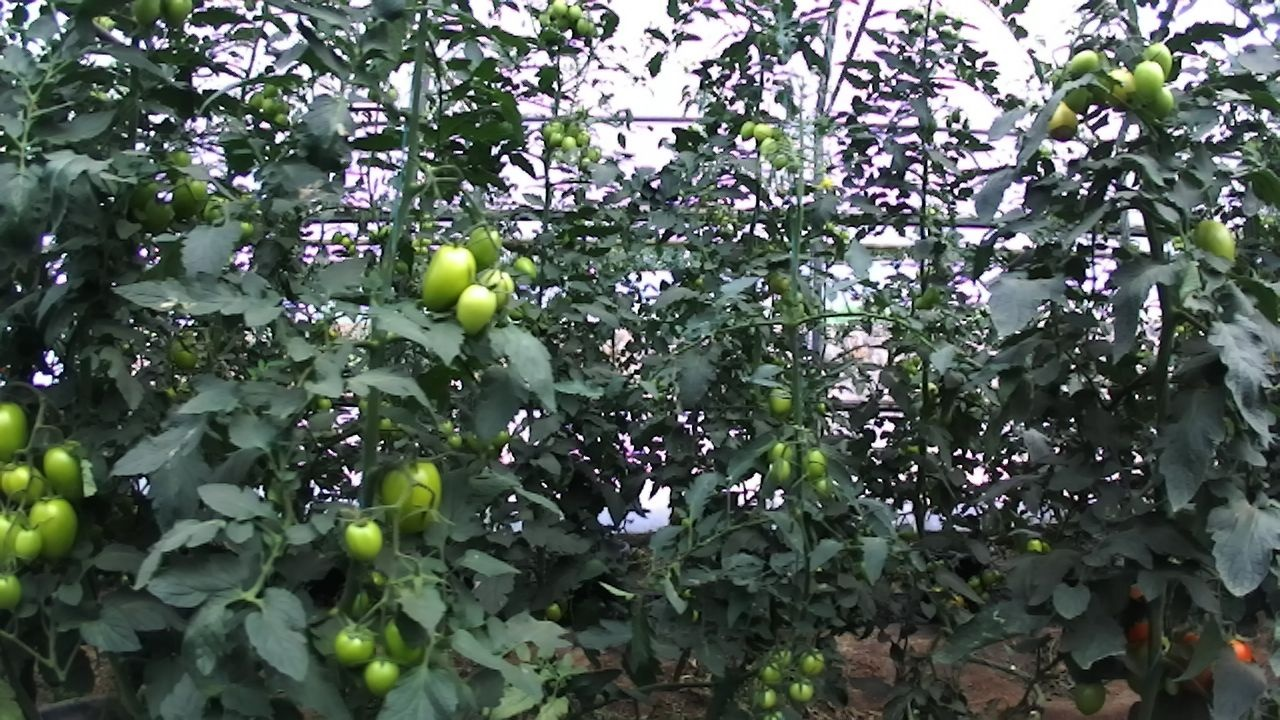tomato: (372, 445, 459, 543), (410, 232, 493, 322), (1185, 200, 1257, 282), (23, 487, 84, 567), (37, 436, 99, 510), (445, 273, 504, 341), (327, 615, 384, 676), (336, 510, 393, 570), (460, 217, 512, 280), (0, 392, 41, 470), (0, 453, 53, 508), (165, 166, 213, 226), (1063, 666, 1116, 720), (1040, 93, 1092, 148), (355, 649, 411, 700), (1048, 66, 1100, 118), (0, 503, 35, 580), (1094, 61, 1144, 114), (136, 192, 181, 243), (165, 330, 208, 379), (1139, 37, 1182, 85), (1139, 81, 1184, 123), (1063, 42, 1107, 84), (123, 0, 172, 37), (10, 521, 50, 566), (155, 0, 203, 37), (1128, 59, 1170, 101), (161, 144, 200, 188), (0, 565, 30, 620), (799, 441, 835, 485), (785, 671, 823, 708), (765, 384, 802, 421), (506, 250, 544, 286), (762, 437, 799, 473), (794, 642, 829, 680), (747, 681, 786, 714), (753, 656, 789, 691), (768, 455, 797, 490), (748, 118, 777, 145), (542, 597, 569, 625), (735, 116, 760, 144), (444, 427, 469, 453), (755, 133, 781, 158), (258, 94, 285, 118), (768, 148, 791, 173), (1024, 534, 1047, 559), (539, 118, 566, 139), (271, 108, 293, 133), (245, 88, 267, 112), (548, 0, 574, 20), (574, 127, 594, 151), (558, 133, 578, 155), (565, 2, 585, 24), (261, 81, 282, 101), (582, 18, 600, 41), (574, 14, 591, 38), (534, 10, 553, 30), (555, 14, 573, 35), (545, 130, 565, 148)
